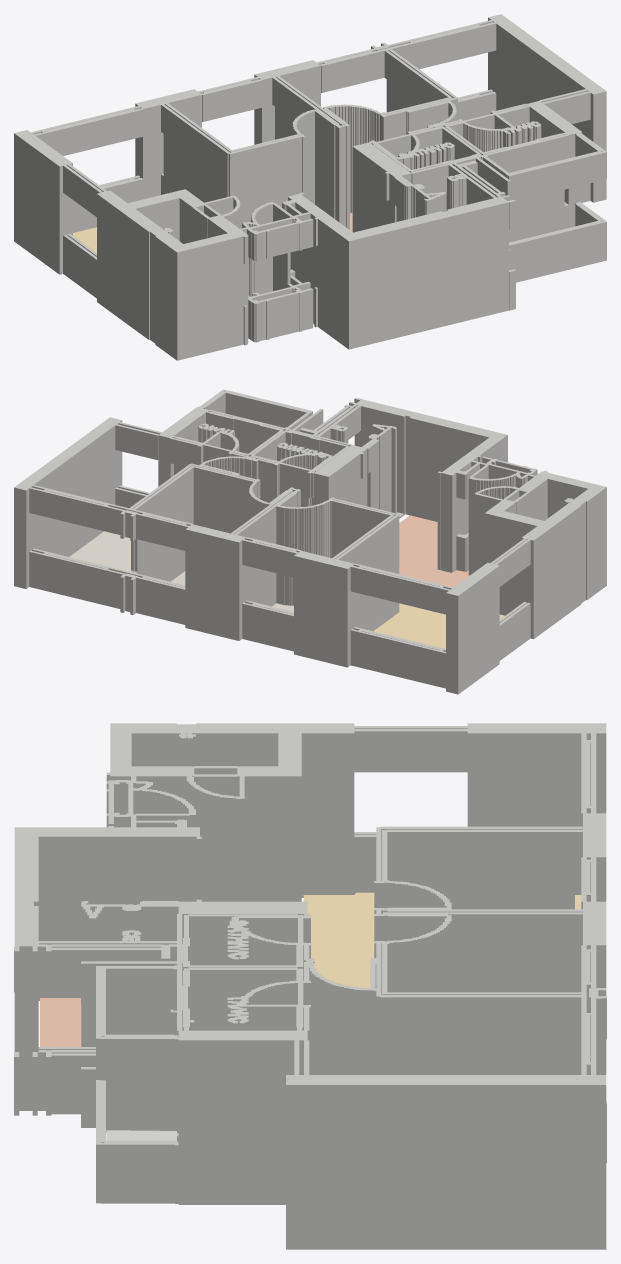
3 renders of one model, top to bottom at view 1: azimuth 30°, elevation 25°; view 2: azimuth 150°, elevation 25°; view 3: azimuth 270°, elevation 25°, orthographic. The views are drawn at different scales.
Parts seen in each view (by area): view 1: walls; view 2: walls, room:kitchen:3, room:living:0, room:other:7; view 3: walls, room:living:0, room:kitchen:3, room:ledge:2.
Part boxes in pixels (box(x1,y1,x2,y2)): walls: box(14, 14, 606, 360); walls: box(14, 389, 606, 694); room:kitchen:3: box(399, 515, 469, 587); room:living:0: box(374, 603, 504, 648); room:other:7: box(69, 531, 130, 571); walls: box(14, 723, 606, 1249); room:living:0: box(303, 892, 581, 987); room:kitchen:3: box(40, 998, 81, 1046); room:ledge:2: box(106, 1130, 176, 1141).
Bounding box in the file's own units: 13.19 × 2.8 × 9.15.
